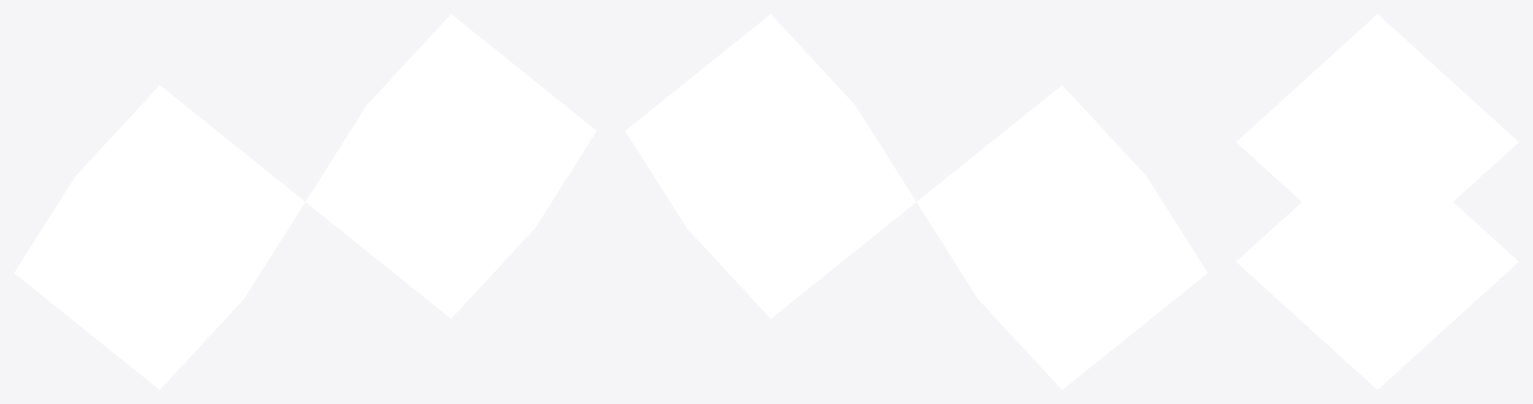
File: gunshot_0.glb
3 renders of one model, left to right at view 1: azimuth 30°, elevation 25°; view 2: azimuth 150°, elevation 25°; view 3: azimuth 270°, elevation 25°, orthographic. The views are drawn at different scales.
Parts seen in each view (by area): view 1: group_13; view 2: group_13; view 3: group_13.
Boxes of the visible parts, x1,y1,x2,y2 form: group_13: (14, 14, 596, 389); group_13: (625, 14, 1207, 389); group_13: (1236, 14, 1518, 389).
Size of the model in its own units: 240 by 120 by 120.
1 material, 1 textured.
